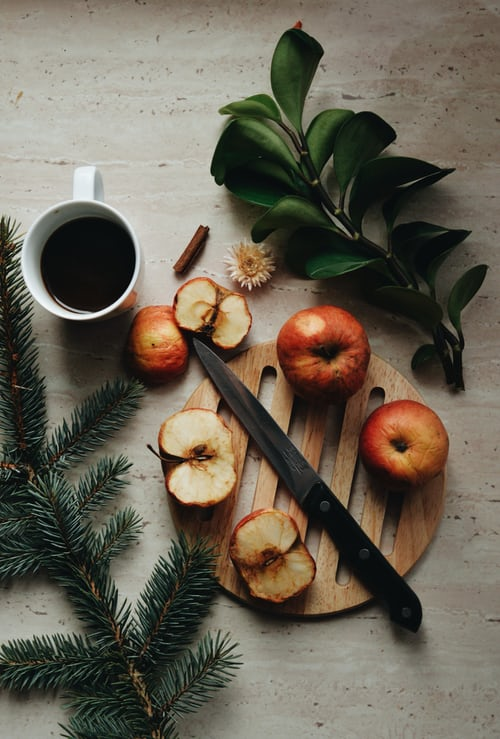apple: (224, 497, 319, 612), (145, 399, 237, 507), (277, 299, 375, 397), (355, 400, 448, 494), (168, 278, 251, 350), (124, 303, 190, 387)
